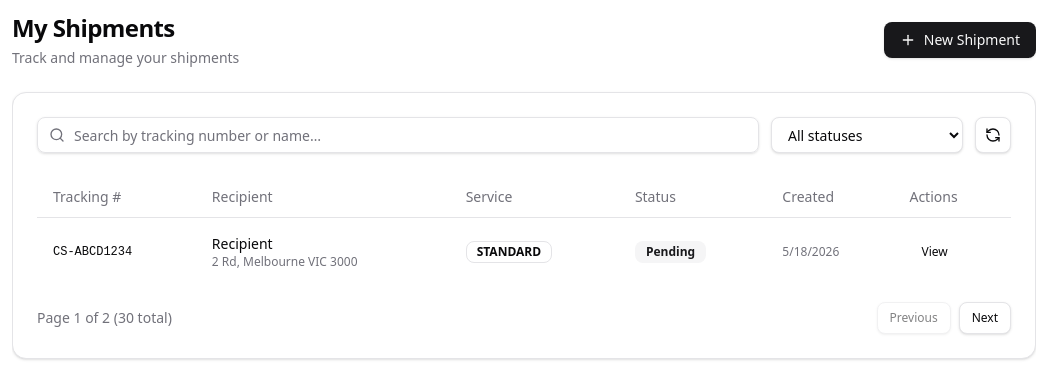
Test case: DashboardPage › Next button advances to page 2
Click the button "Next". click: click(985, 318)
box: 959,302 -> 1011,334
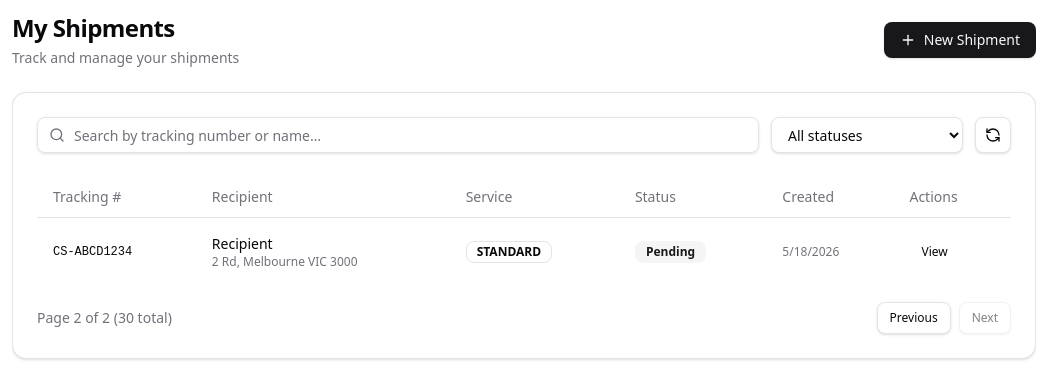
Expected: the text "Page 2 of 2 (30 total)" is shown, 37,308 -> 172,328
